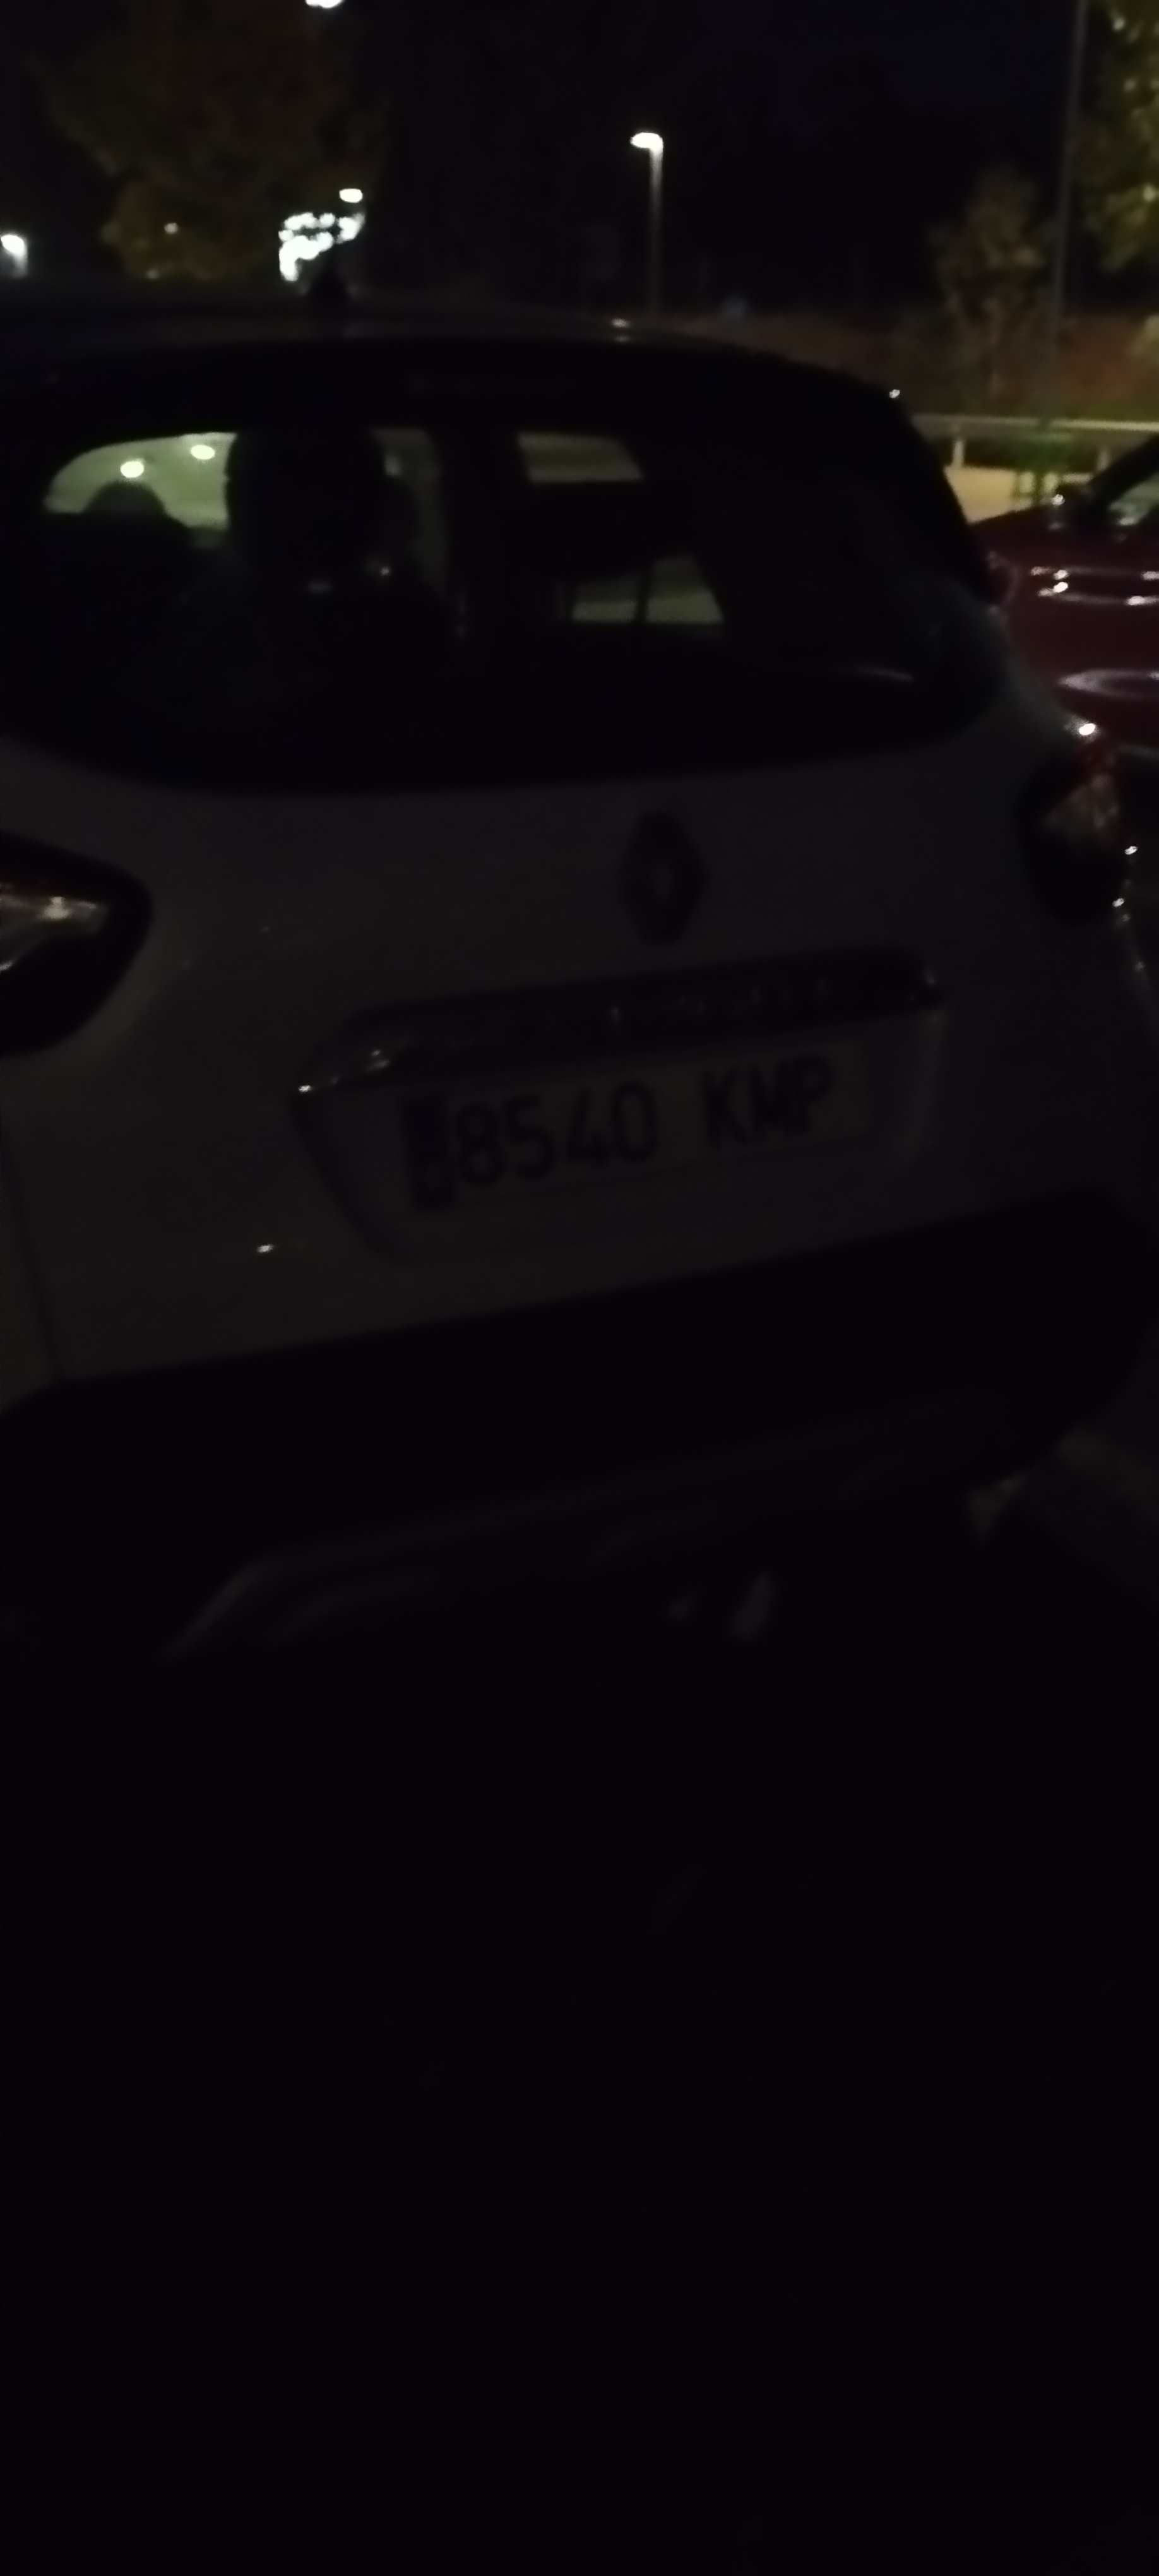Plate: (391, 1101, 883, 1212)
